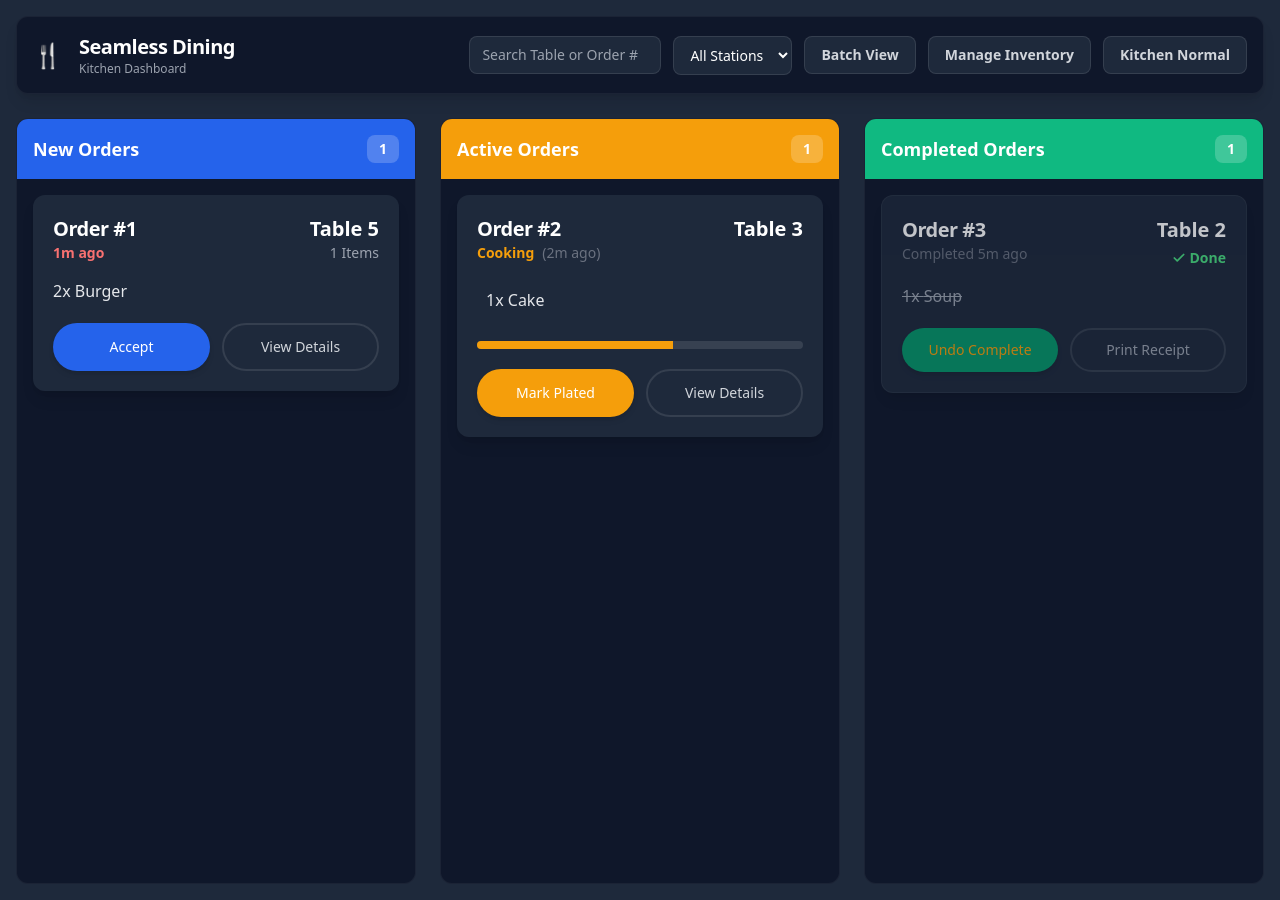
Test: Dashboard Component › filters orders by search query
The image size is (1280, 900).
Expected: the heading "Order #1" is shown, x1=53 y1=215 x2=137 y2=243
Expected: the heading "Order #2" is shown, x1=477 y1=215 x2=561 y2=242
// Search for table 5 (Order #1)
Type "5" into the field with placeholder "Search Table or Order #" at (565, 55), box x1=469 y1=36 x2=661 y2=74
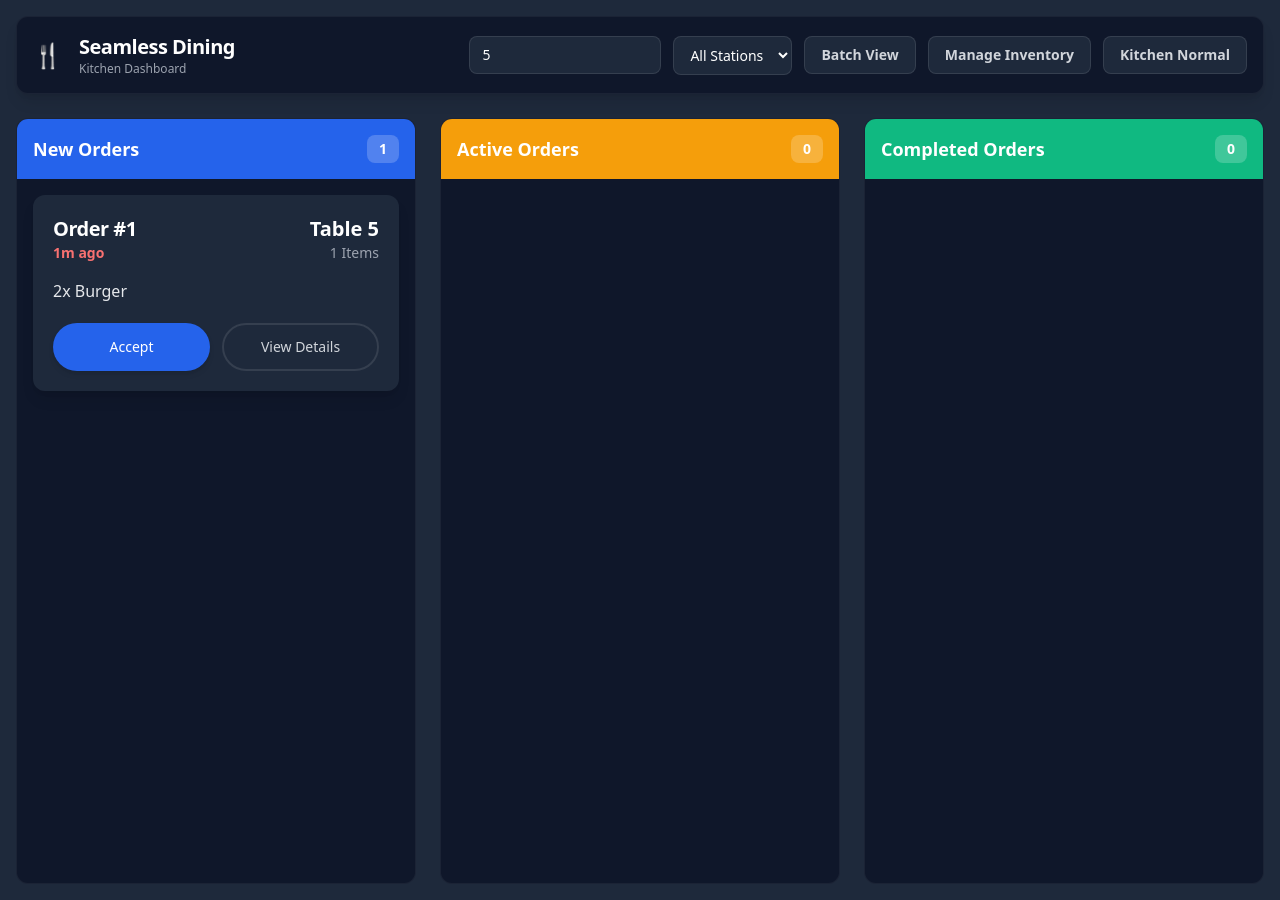
Expected: the heading "Order #1" is shown, x1=53 y1=215 x2=137 y2=243
Expected: the heading "Order #2" is gone
Expected: the heading "Order #3" is gone
